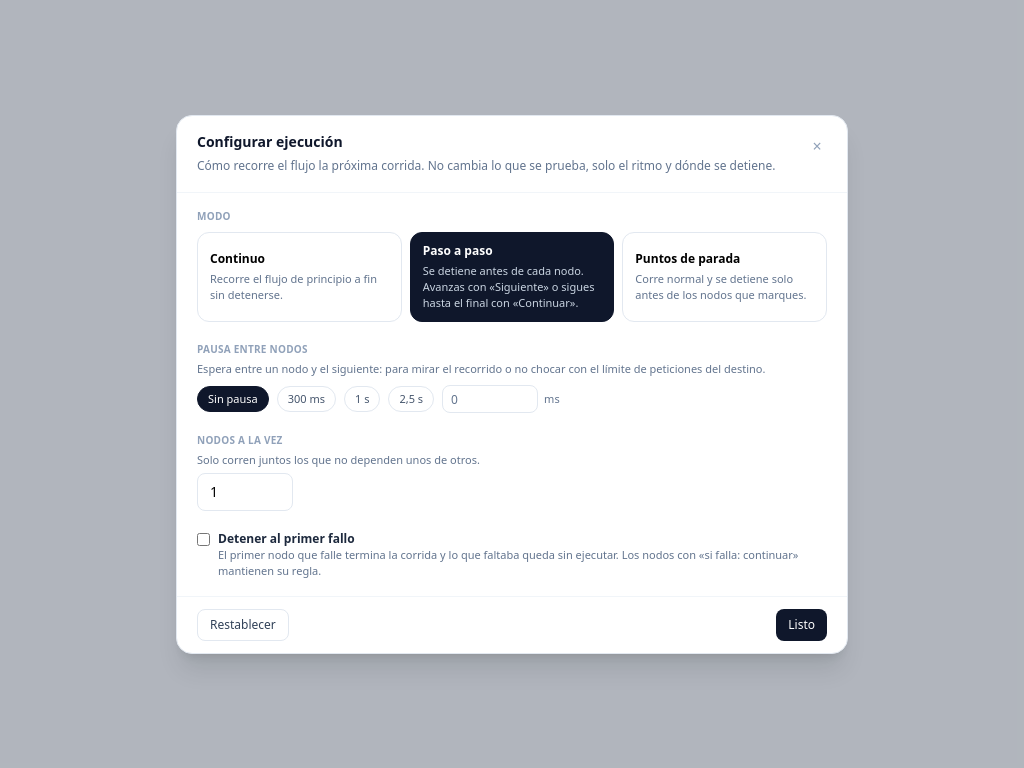
Test: configurar ejecución › nodos a la vez: entre 1 y el límite, y el aviso con pausas
The width and height of the screenshot is (1024, 768).
Replace the text in the number field named "Nodos a la vez" with "50" at [245, 492], box [197, 472, 293, 510]
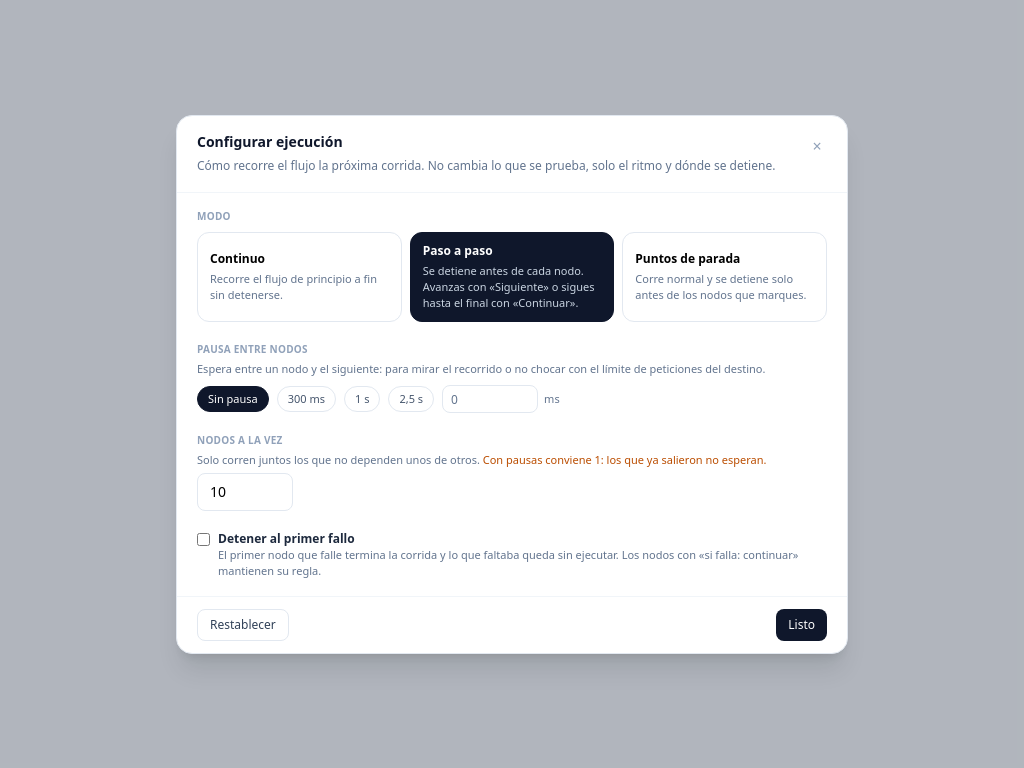
Check: the text "Con pausas conviene 1: los que ya salieron no esperan." is shown, box [480, 452, 766, 467]
Replace the text in the number field named "Nodos a la vez" with "0" at [245, 492], box [197, 472, 293, 510]
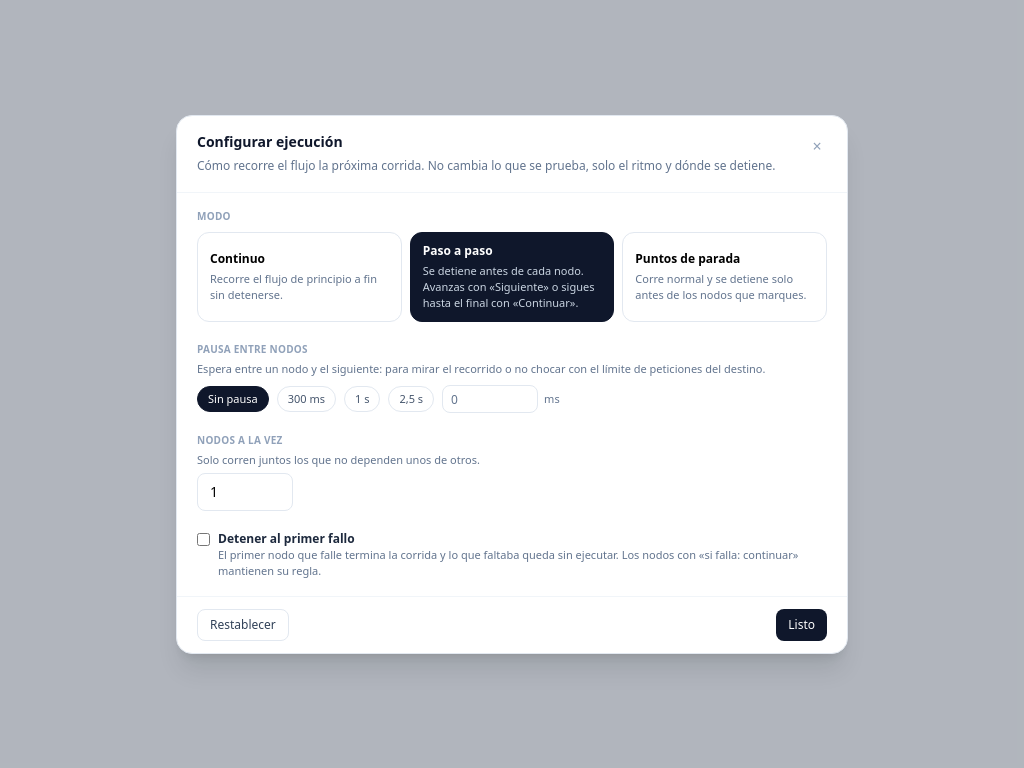
Check: the text "Con pausas conviene 1" is gone
